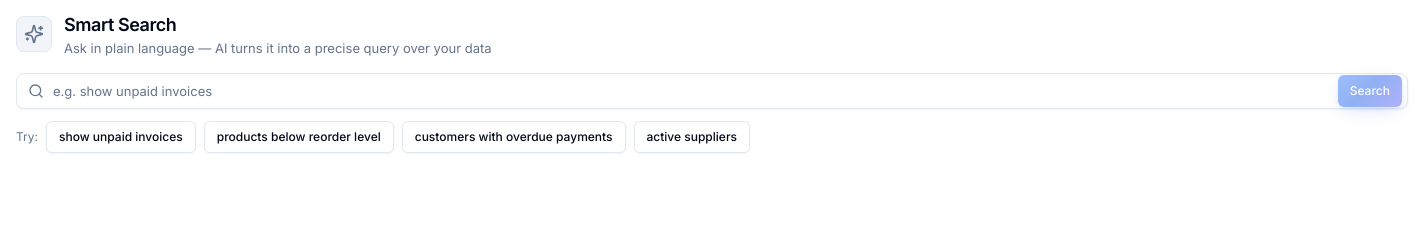
SmartSearchView › shows an error message when the action fails
In the search field named "Smart search query": {"x": 712, "y": 91} [16,73,1408,109], type "anything"
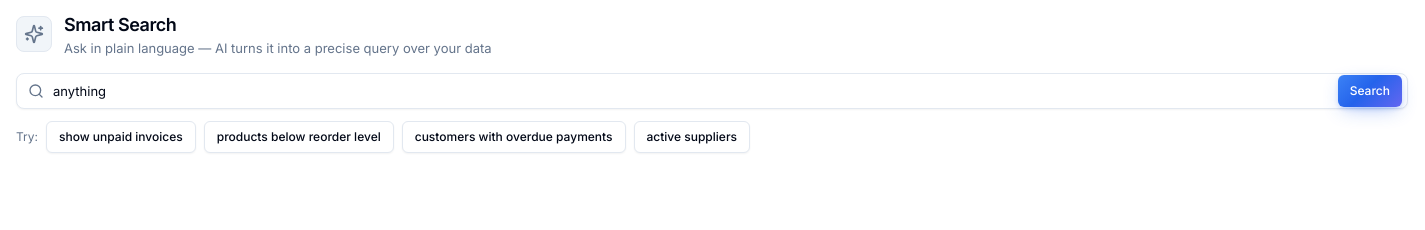
Click the button "Search": {"x": 1370, "y": 91} [1338,75,1402,107]
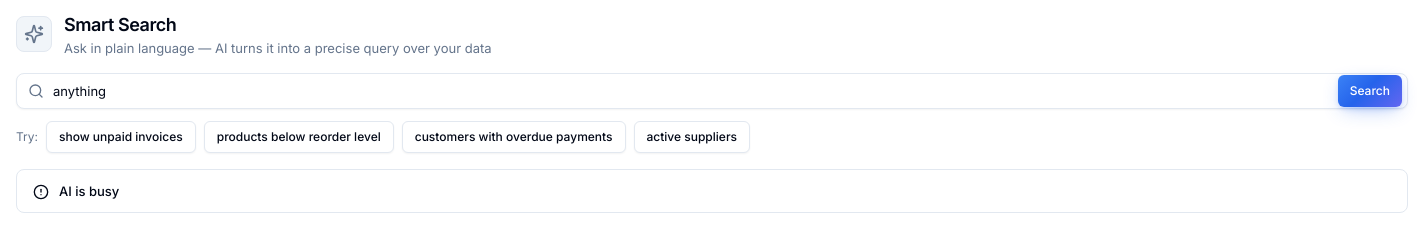
expect the message reads "AI is busy": met, box [59,183,119,199]
